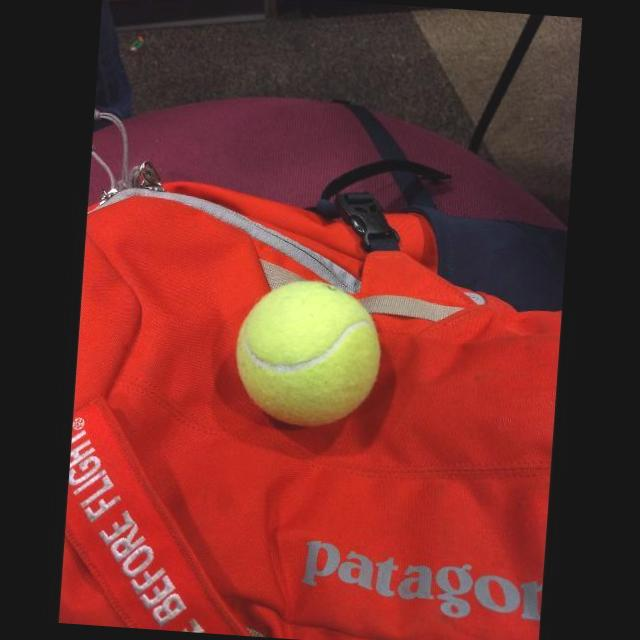Tennis Ball: (228, 270, 389, 437)
